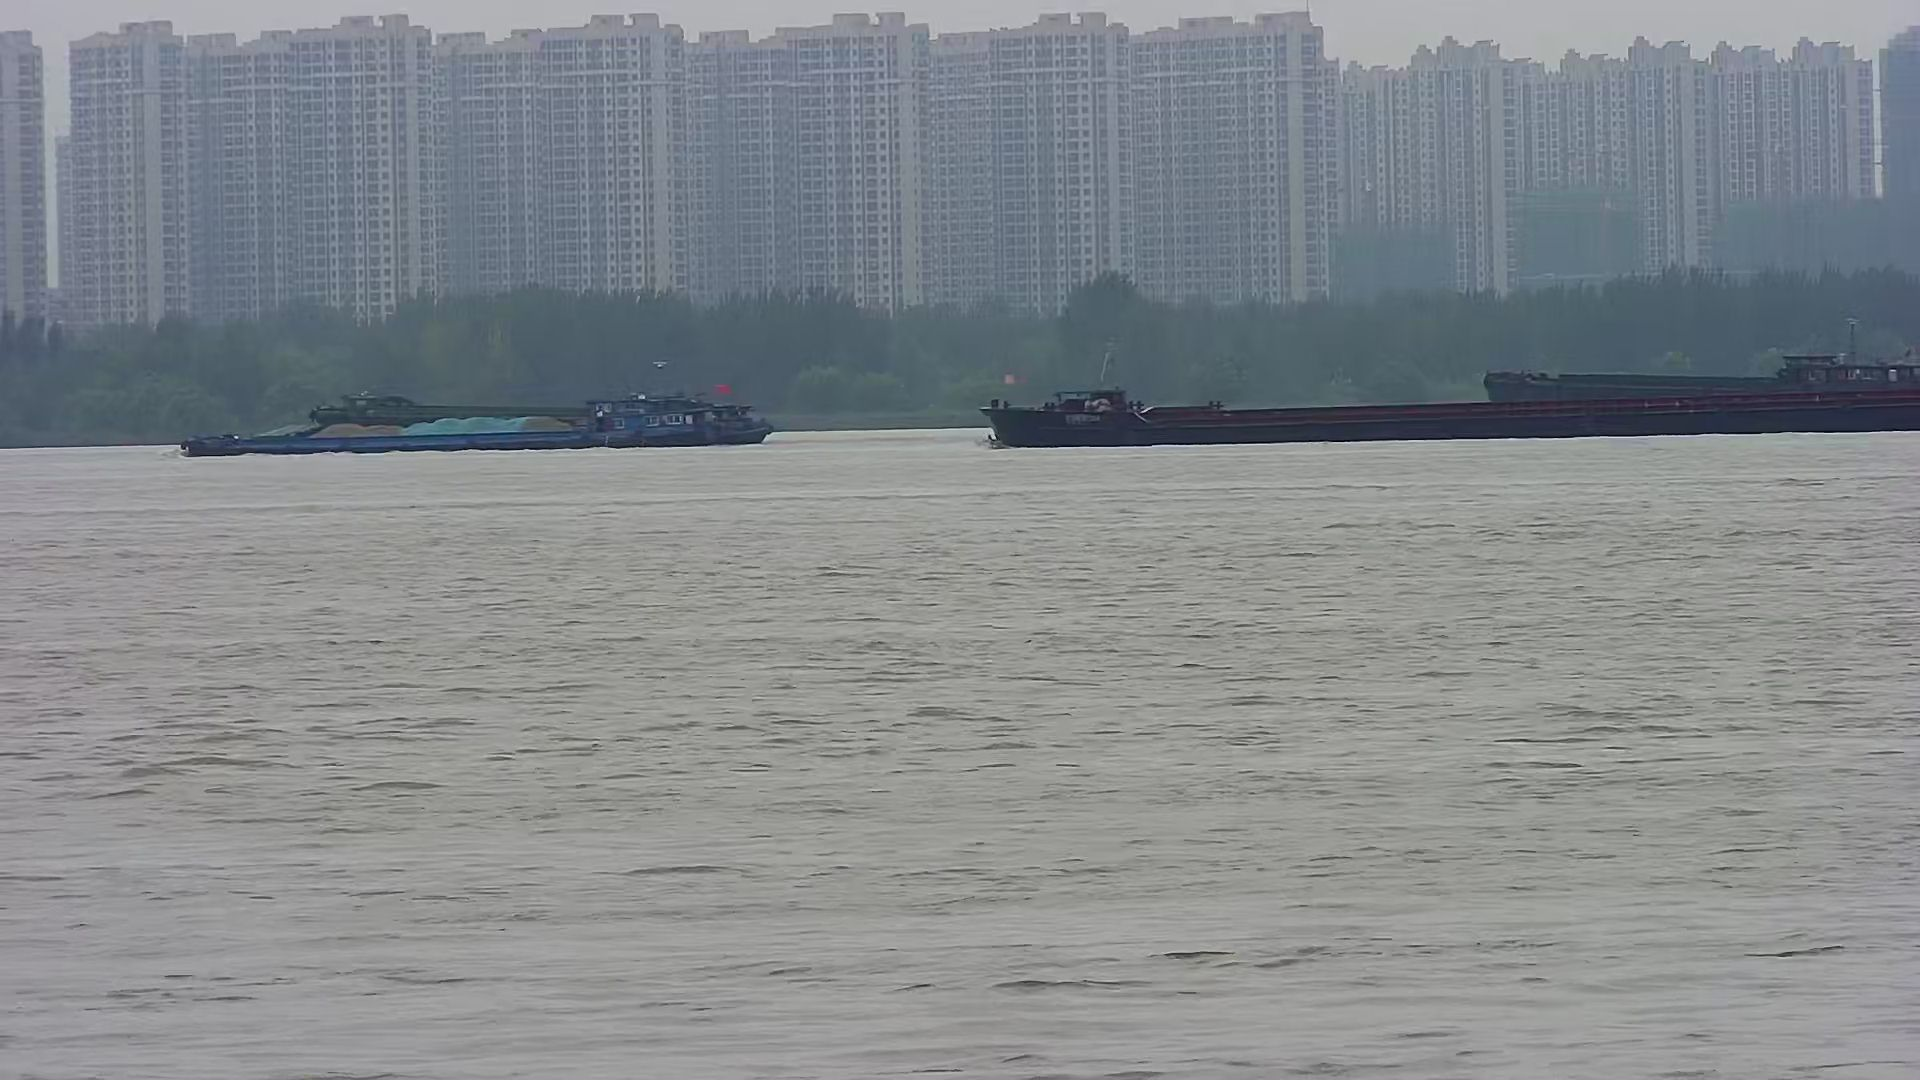ship: (976, 352, 1920, 451), (171, 381, 767, 452), (1480, 349, 1920, 419)
